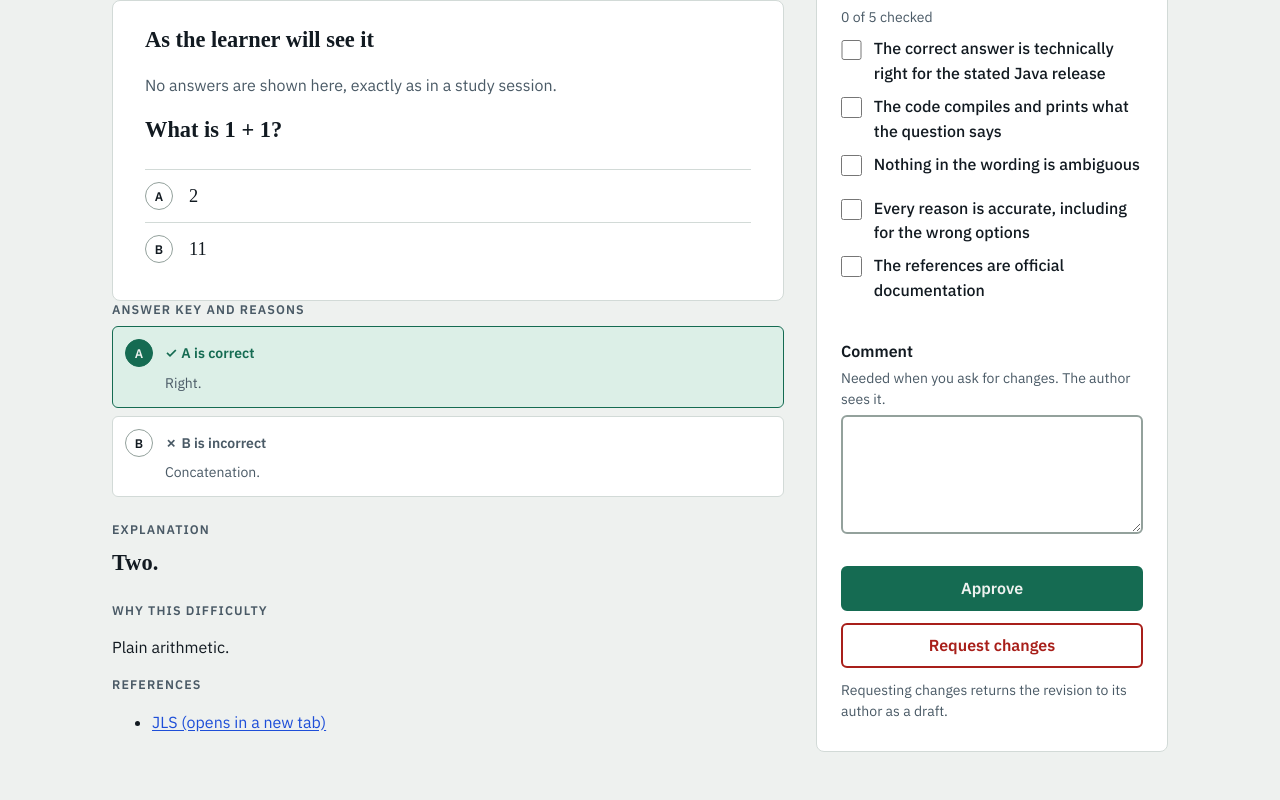
Test: reviewing › explains a refusal because the reviewer wrote the revision
(page scrolled)
Click the button "Approve". click: (992, 588)
box: [841, 566, 1143, 611]
(page scrolled)
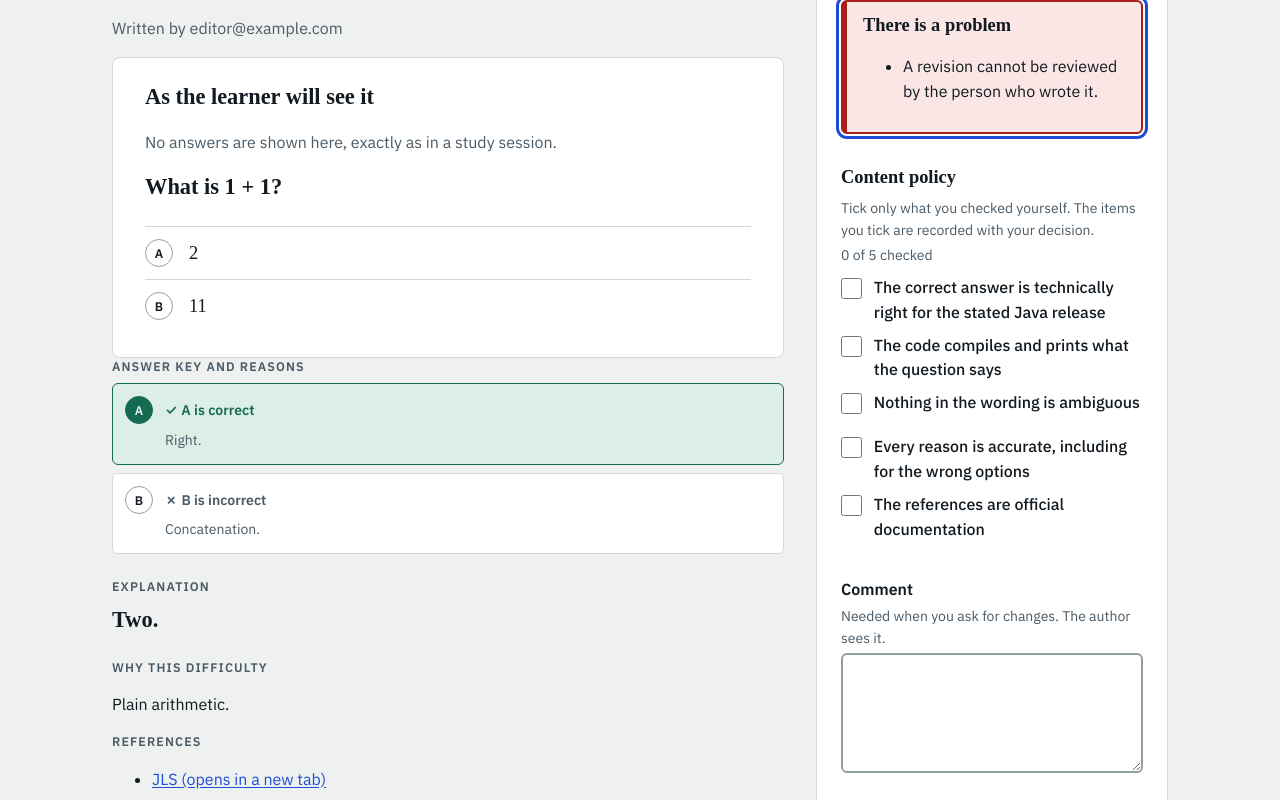
Check: the message "There is a problem A revision cannot be reviewed by the person who wrote it." is shown, box [841, 0, 1143, 134]
